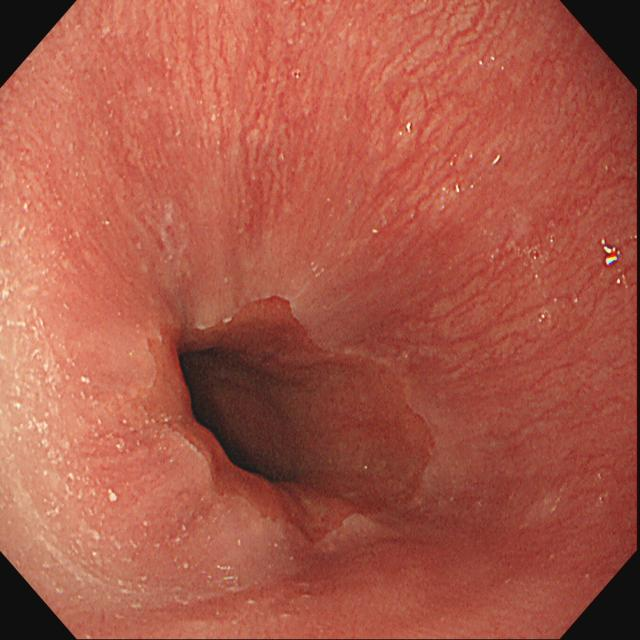I: (124, 276, 454, 582)
U: (600, 236, 623, 268)
